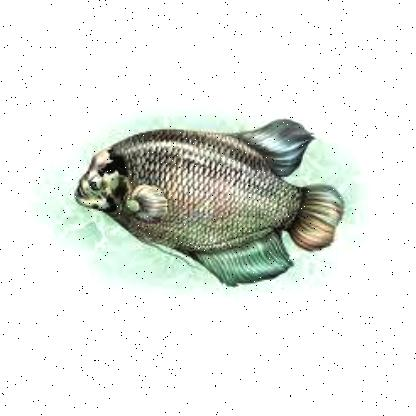gurame: (77, 121, 347, 287)
